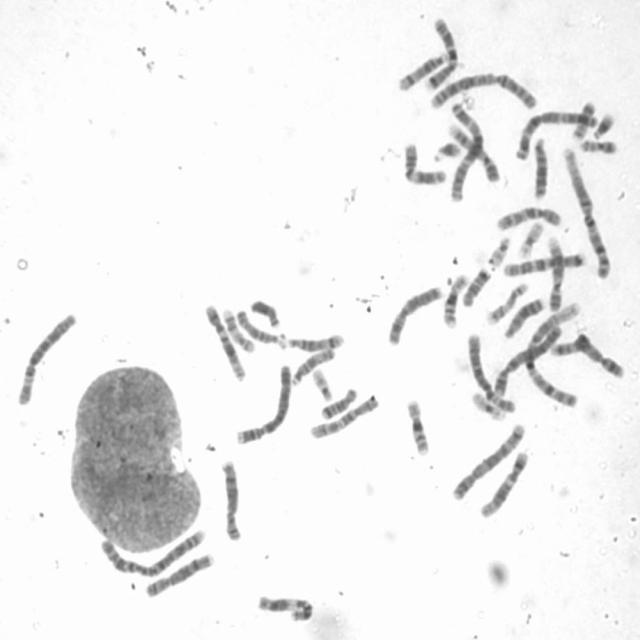A1: (562, 145, 614, 281), (524, 300, 582, 408)
A2: (100, 526, 208, 578), (430, 73, 538, 111)
A3: (513, 110, 600, 163), (448, 102, 484, 203)
B4: (491, 323, 563, 398), (236, 364, 291, 446)
B5: (452, 422, 527, 502), (551, 331, 627, 382)
C10: (308, 394, 381, 440), (494, 205, 562, 232)
C11: (400, 142, 448, 188), (256, 592, 314, 622)
C12: (479, 450, 529, 520), (204, 304, 248, 383)
C6: (15, 311, 78, 406), (467, 331, 517, 414)
C7: (424, 17, 460, 94), (501, 254, 587, 278)
C8: (144, 551, 216, 598), (218, 458, 242, 542)
C9: (445, 121, 502, 186), (543, 235, 566, 314)
D13: (502, 294, 545, 340), (533, 137, 550, 198)
D14: (396, 51, 452, 93), (278, 333, 346, 352)
D15: (233, 307, 287, 345), (290, 348, 336, 388)
E16: (442, 272, 470, 330), (405, 399, 431, 458)
E17: (485, 280, 530, 325), (222, 309, 256, 354)
E18: (461, 267, 493, 310), (320, 386, 358, 421)
F19: (515, 220, 547, 260), (471, 390, 507, 423)
F20: (570, 98, 600, 142), (579, 137, 618, 156)
G21: (591, 112, 616, 142), (432, 140, 463, 164)
G22: (487, 234, 512, 269), (311, 367, 333, 403)
X: (387, 285, 446, 347)
Y: (250, 298, 281, 329)
